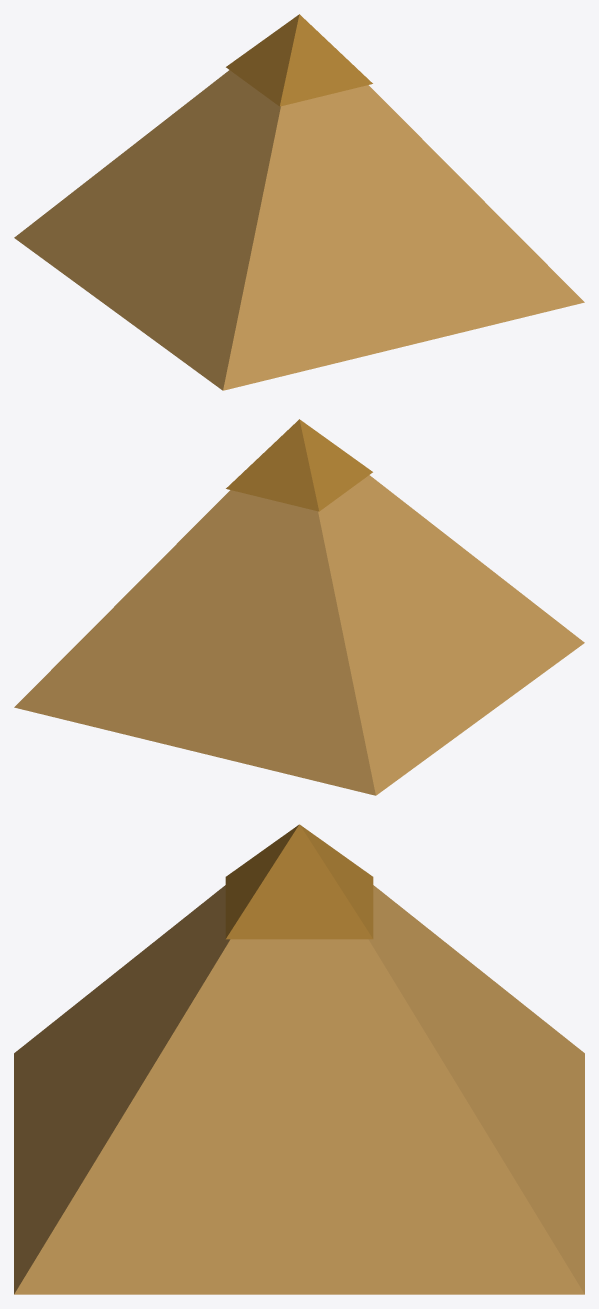
File: Desert_Pyramid.fbx
The picture shows the model from 3 angles, top to bottom: view 1: azimuth 30°, elevation 25°; view 2: azimuth 150°, elevation 25°; view 3: azimuth 270°, elevation 25°; orthographic projection. The views are drawn at different scales.
Visible parts, largest first — view 1: Cube.009; view 2: Cube.009; view 3: Cube.009.
Boxes of the visible parts, <box> form: Cube.009: <box>14,14,584,390</box>; Cube.009: <box>14,419,584,795</box>; Cube.009: <box>14,824,584,1294</box>.
Size of the model in its own units: 10216 by 6905 by 10216.
